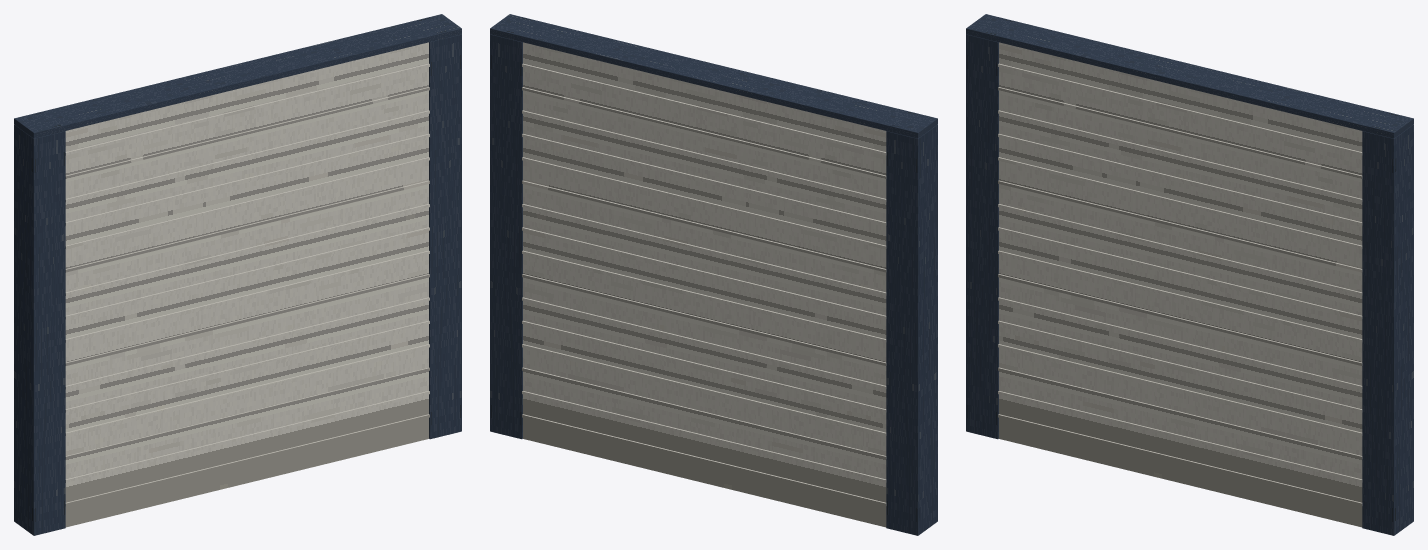
Rendered from house_05_wall_solid.glb.
The picture shows the model from 3 angles, left to right: view 1: azimuth 30°, elevation 25°; view 2: azimuth 150°, elevation 25°; view 3: azimuth 330°, elevation 25°; orthographic projection.
Visible parts, largest first — view 1: house_05_wall_solid; view 2: house_05_wall_solid; view 3: house_05_wall_solid.
Part boxes in pixels (<box>): house_05_wall_solid: <box>14,14,461,535</box>; house_05_wall_solid: <box>490,14,937,535</box>; house_05_wall_solid: <box>966,14,1413,535</box>.
Bounding box in the file's own units: 3 × 2.7 × 0.24.
2 materials, 2 textured.
